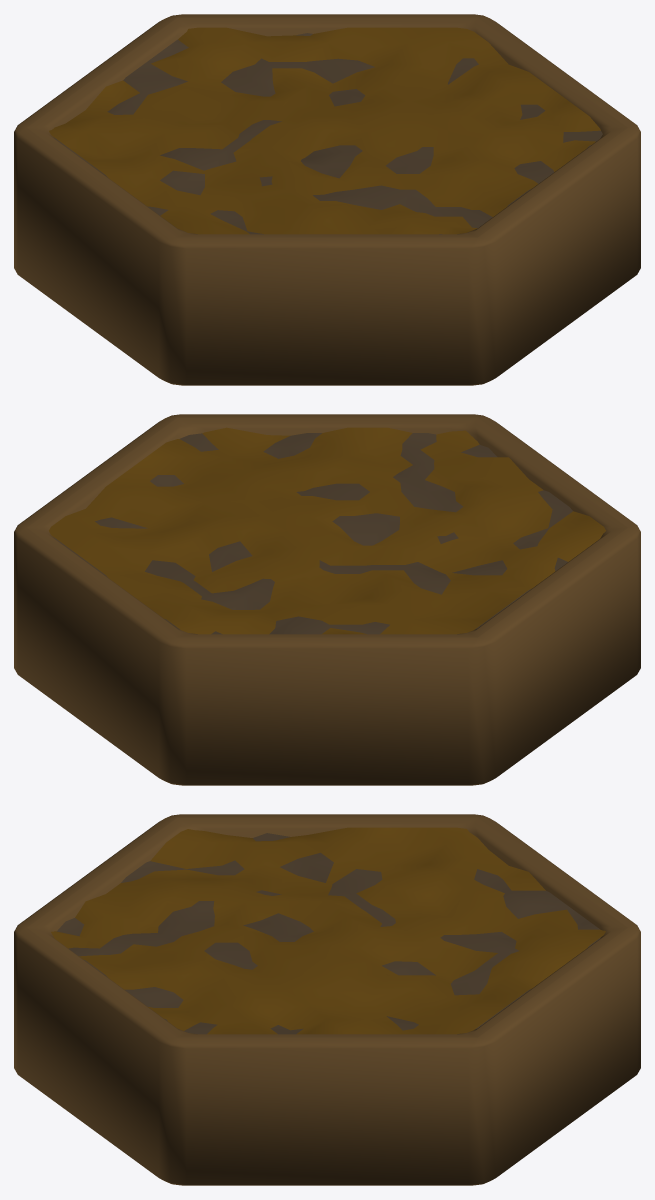
Rendered from dirthex.fbx.
3 renders of one model, top to bottom at view 1: azimuth 30°, elevation 25°; view 2: azimuth 150°, elevation 25°; view 3: azimuth 270°, elevation 25°, orthographic.
Visible parts, largest first — view 1: Cylinder, Cylinder.001, Cylinder.002; view 2: Cylinder, Cylinder.001, Cylinder.002; view 3: Cylinder, Cylinder.001, Cylinder.002.
Boxes of the visible parts, x1,y1,x2,y2 form: Cylinder: (14, 14, 640, 385); Cylinder.001: (49, 27, 600, 234); Cylinder.002: (54, 33, 602, 234); Cylinder: (14, 414, 640, 785); Cylinder.001: (49, 427, 605, 634); Cylinder.002: (54, 433, 572, 634); Cylinder: (14, 814, 640, 1185); Cylinder.001: (51, 827, 605, 1034); Cylinder.002: (57, 833, 600, 1034).
Bounding box in the file's own units: 173 × 50 × 197.
